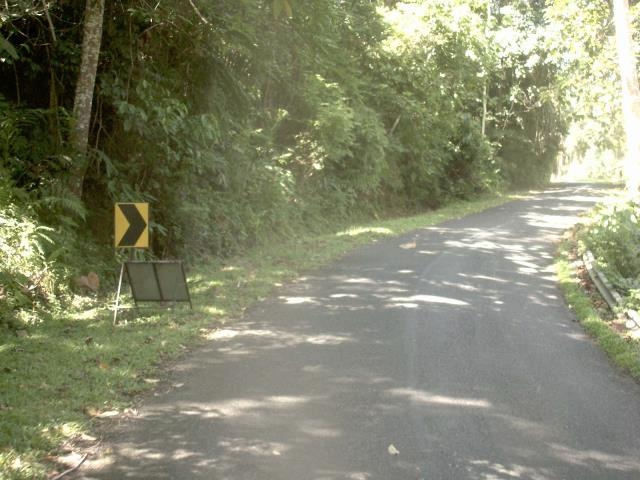traffic_sign: (103, 195, 158, 260)
